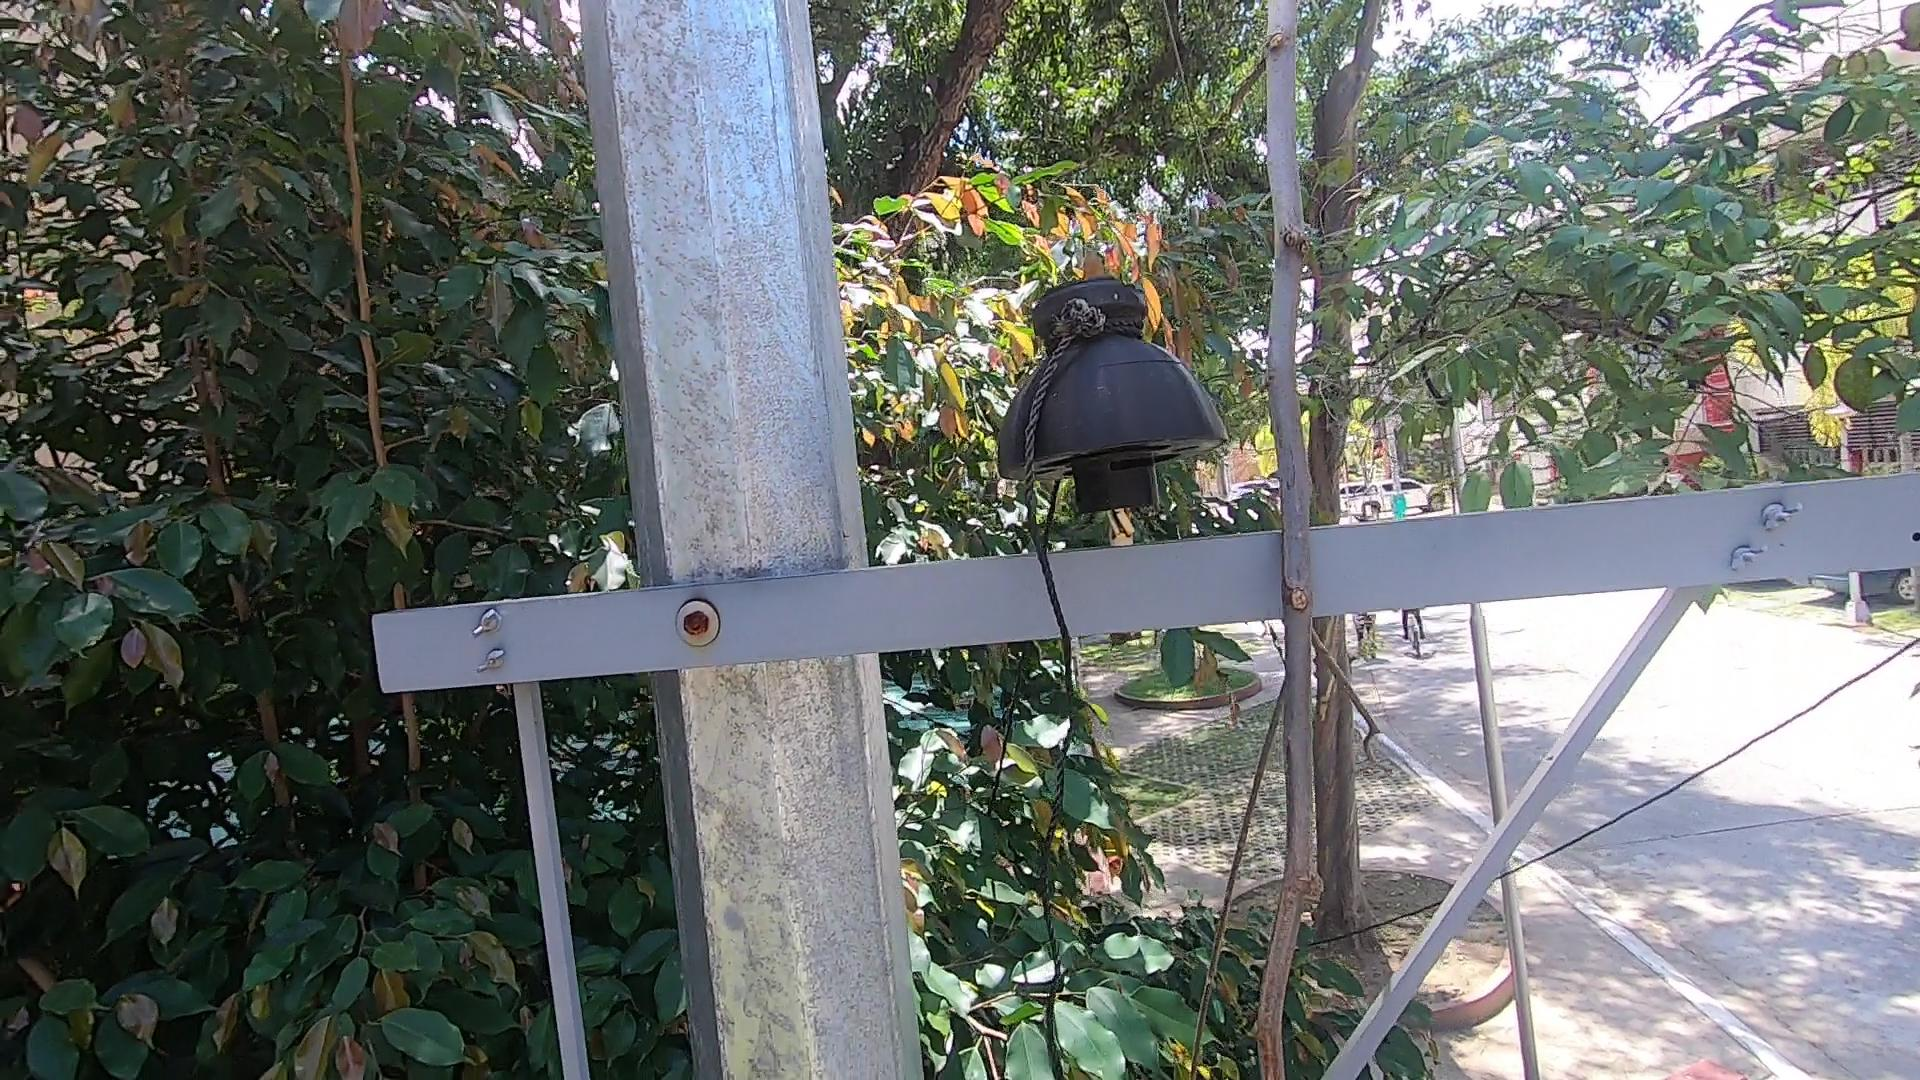tree branch: (1149, 3, 1408, 1080)
